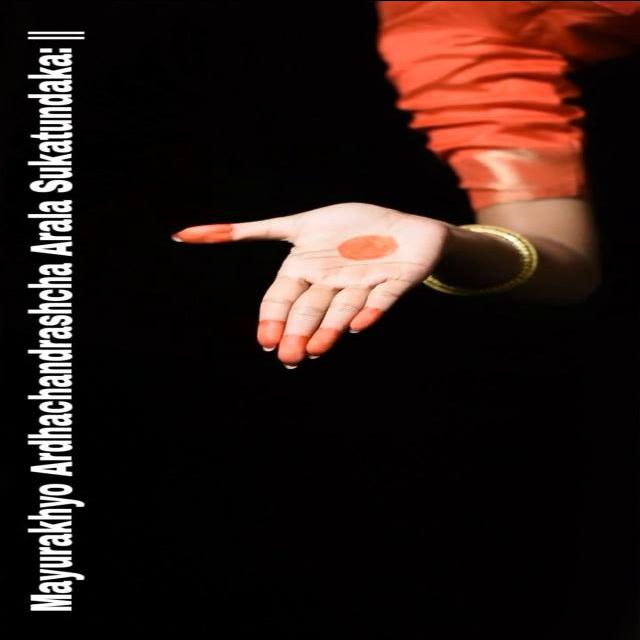ardhachandra: (158, 186, 458, 382)
